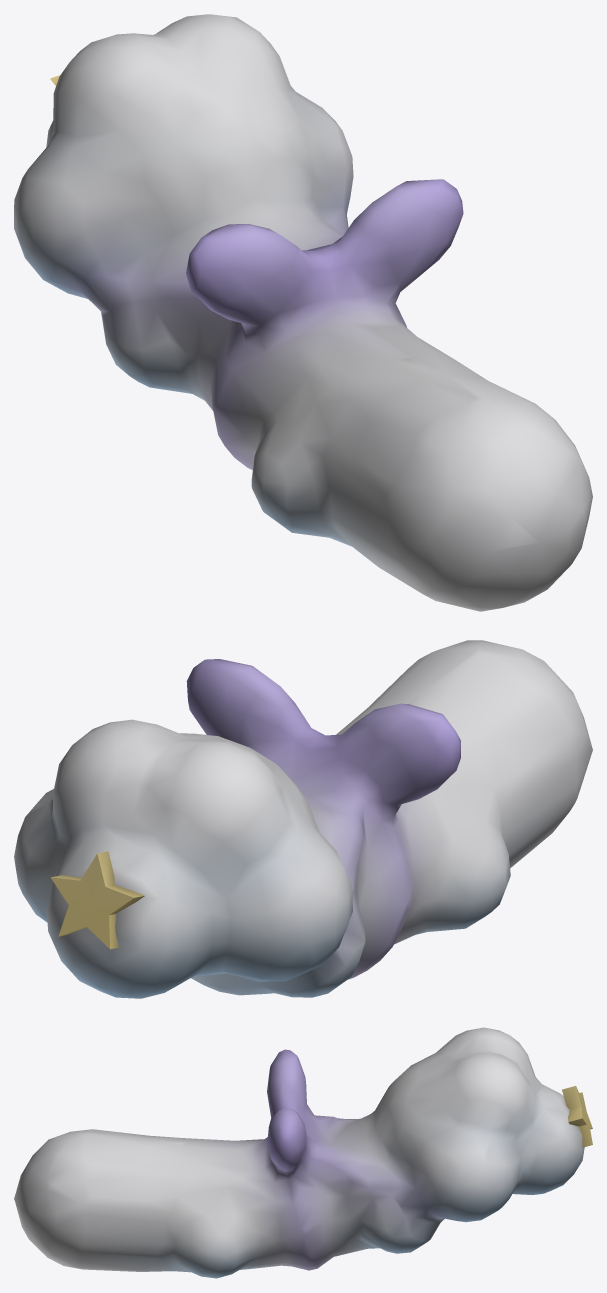
File: air-tail.glb
The picture shows the model from 3 angles, top to bottom: view 1: azimuth 30°, elevation 25°; view 2: azimuth 150°, elevation 25°; view 3: azimuth 270°, elevation 25°; orthographic projection. The views are drawn at different scales.
Visible parts, largest first — view 1: air-tail; view 2: air-tail; view 3: air-tail.
Boxes of the visible parts, x1=… form: air-tail: x1=14, y1=14, x2=592, y2=611; air-tail: x1=14, y1=640, x2=592, y2=998; air-tail: x1=14, y1=1027, x2=592, y2=1278.
Size of the model in its own units: 0.1362 by 0.1424 by 0.3378.
